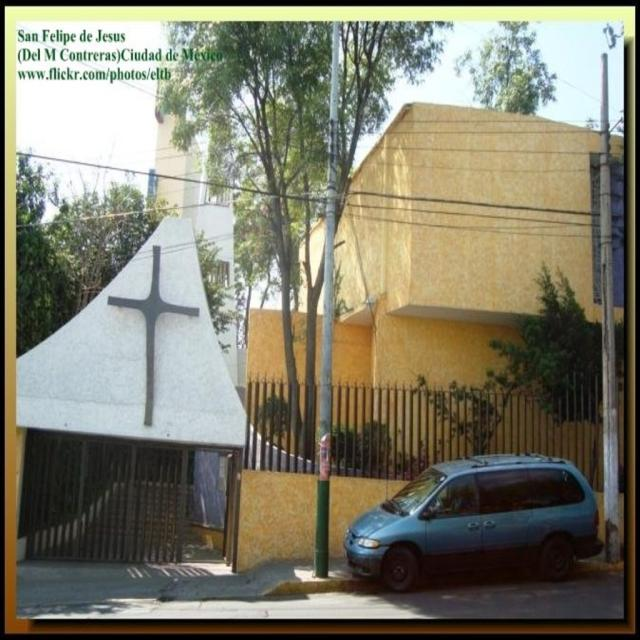car: (342, 446, 605, 592)
